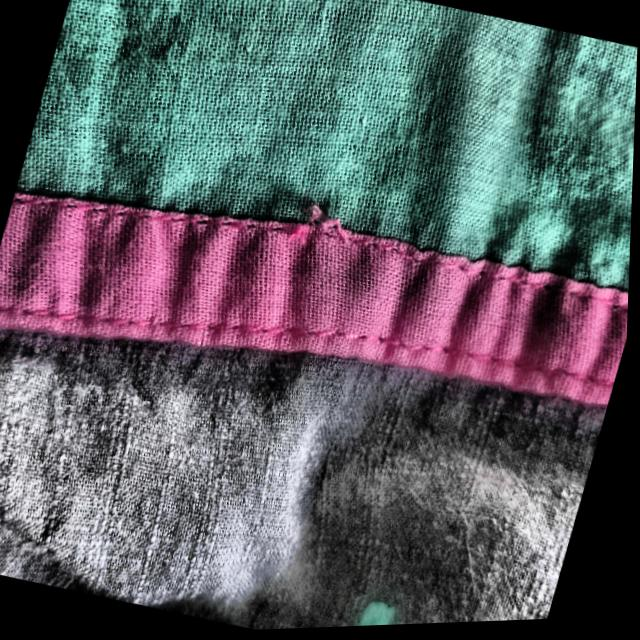Stitch: (262, 121, 442, 286)
